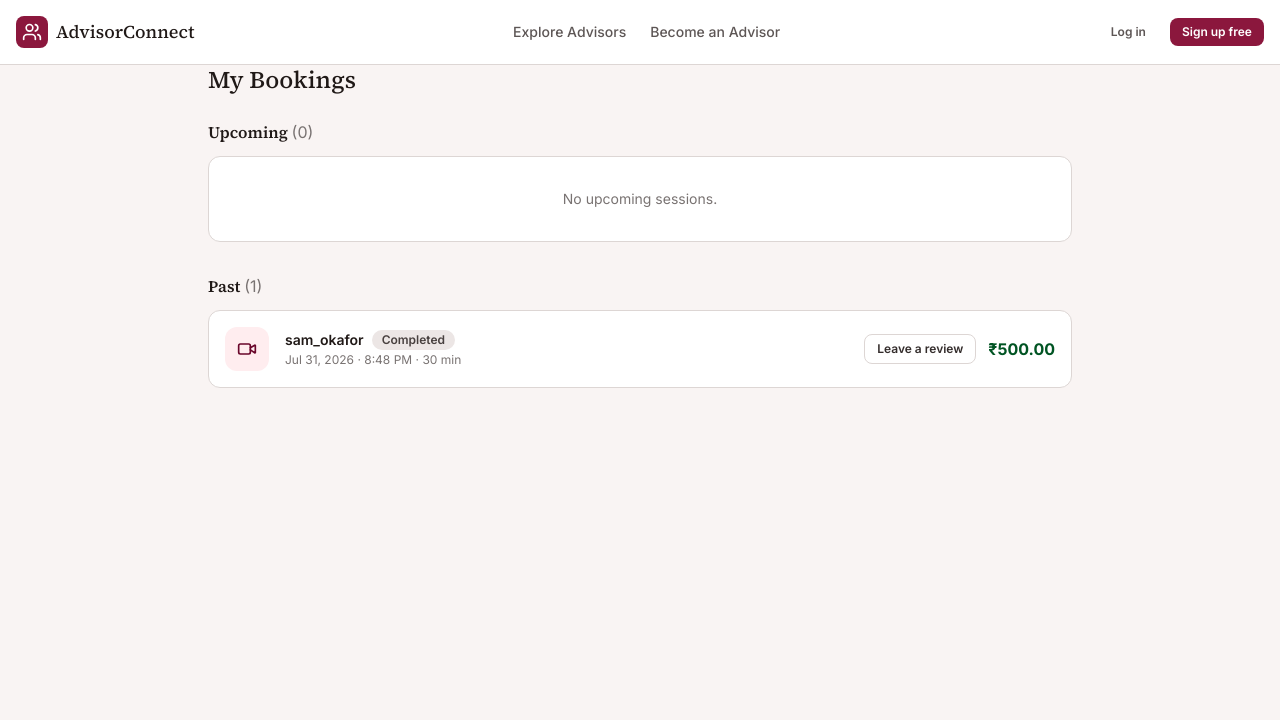
Test: MyBookingsPage › leave a review › submits the clicked booking id and closes on success
Expected: the link "sam_okafor" is shown, [285,330,364,350]
Click the button "Leave a review": click(920, 349) [864,334,976,364]
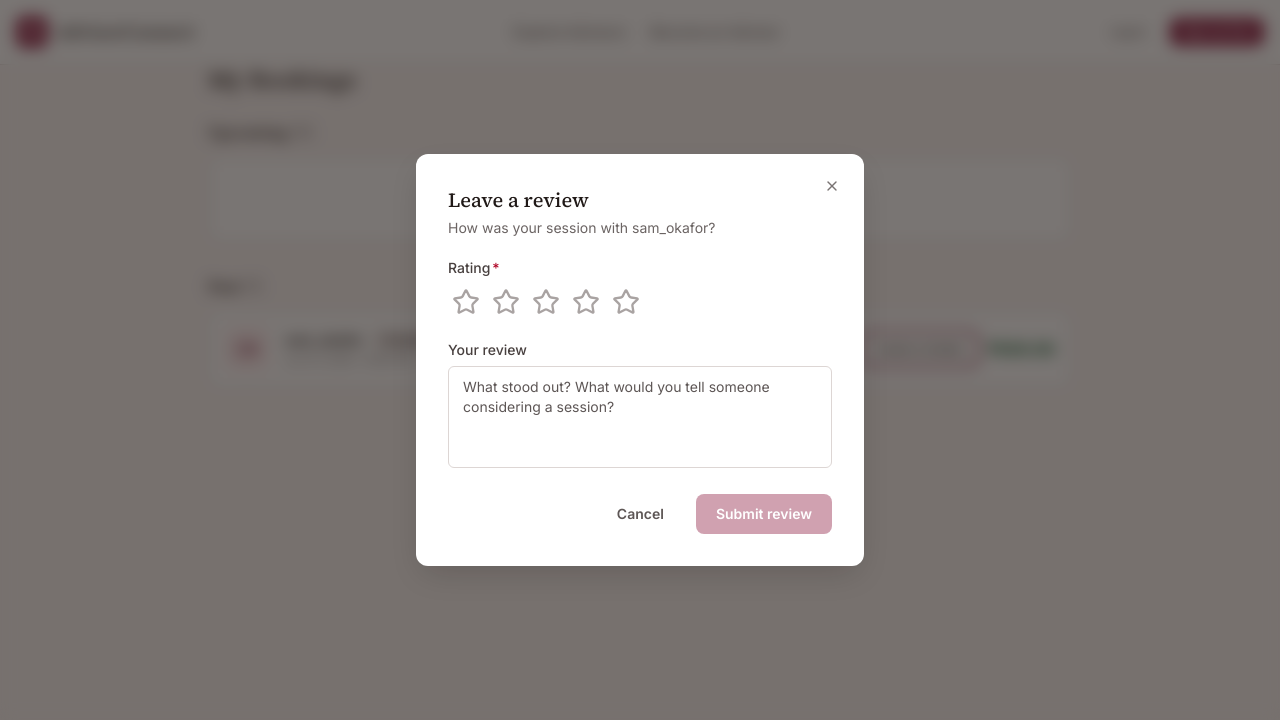
Click the radio button named "5 stars": click(626, 302) [608,284,644,320]
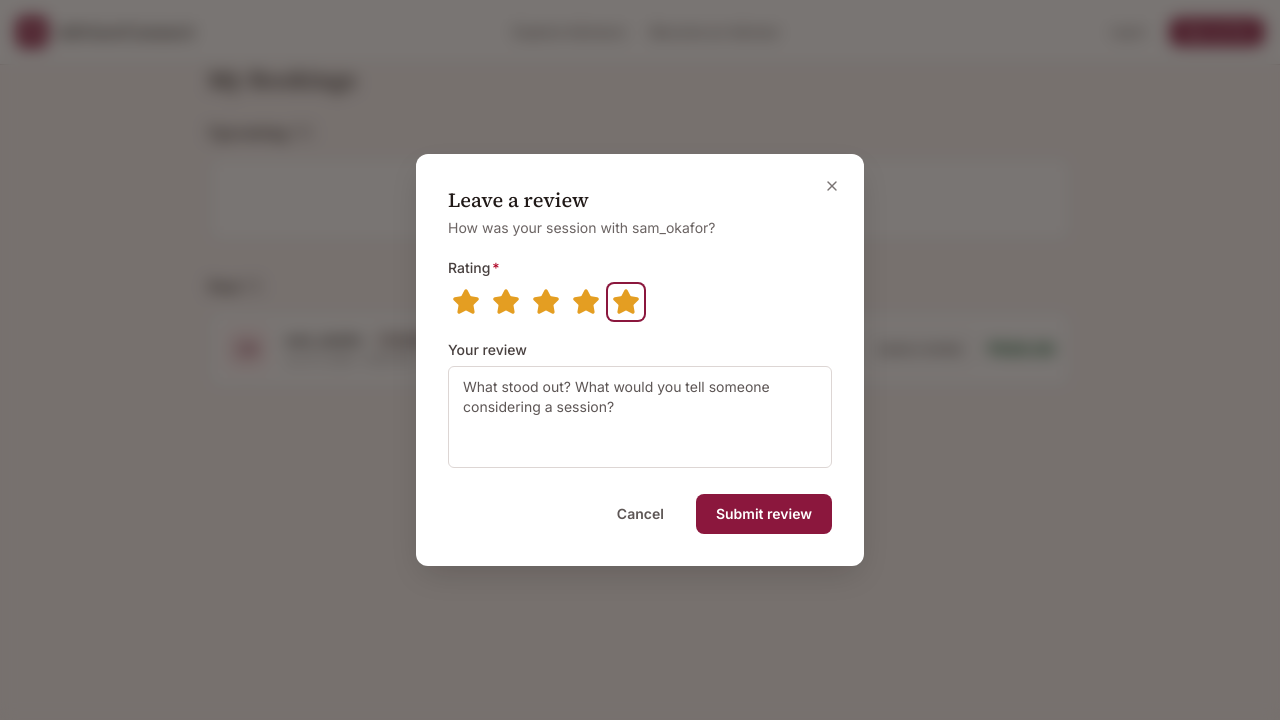
Click the button "Submit review": click(764, 514) [696,494,832,534]
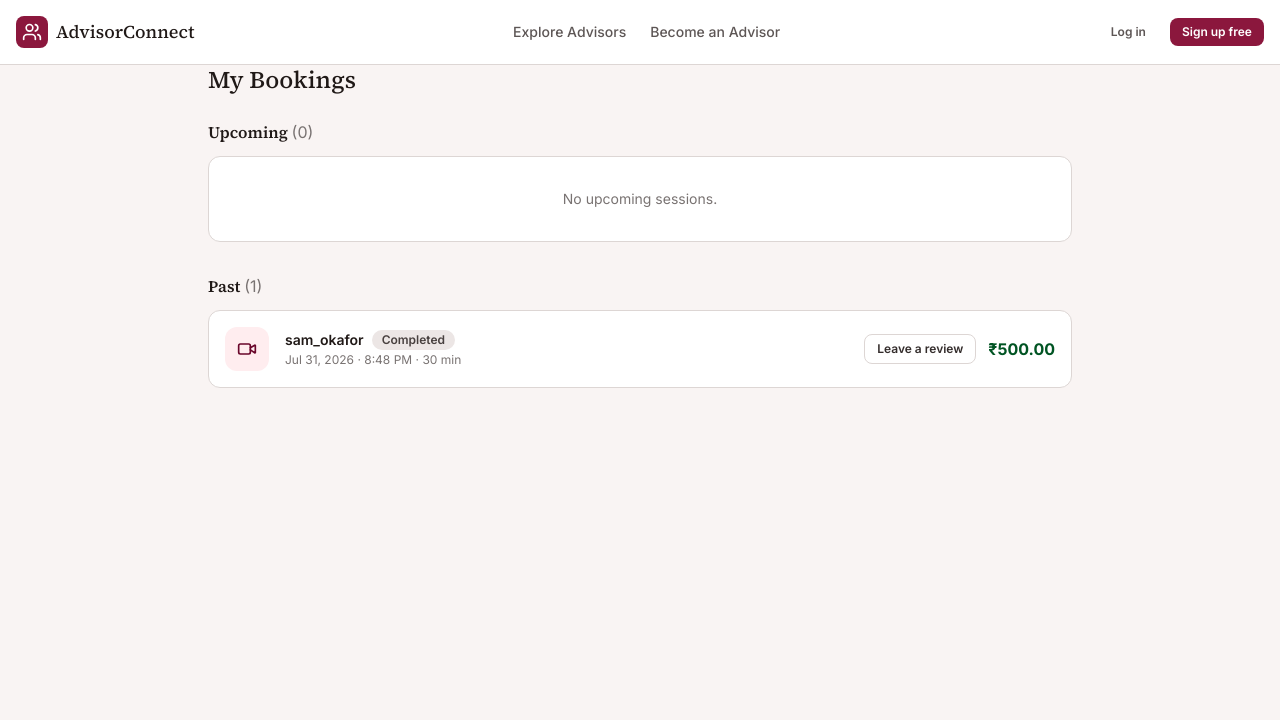
Expected: the dialog is gone
